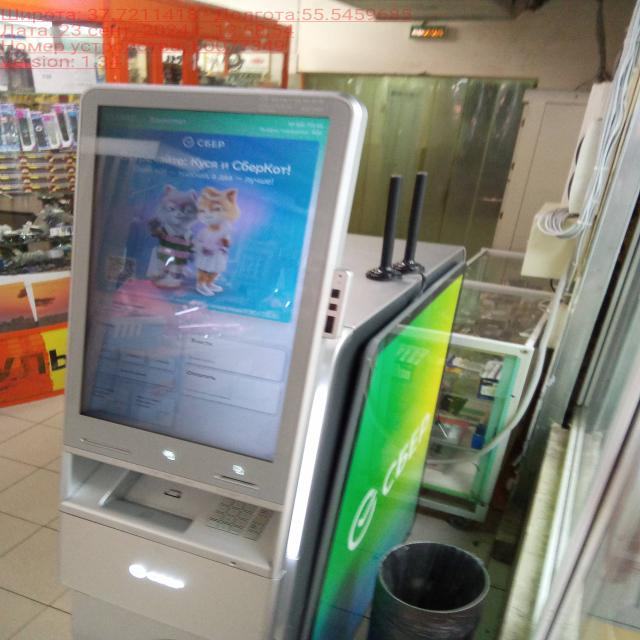bank: (60, 79, 467, 640)
